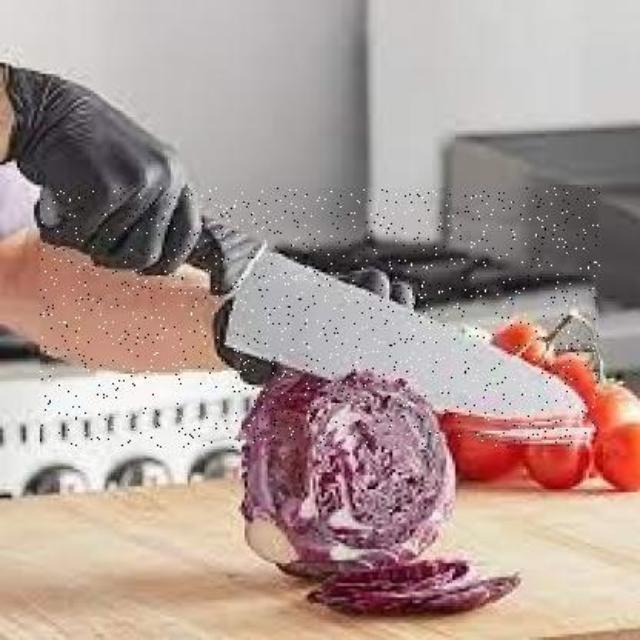Knife: (40, 188, 600, 448)
